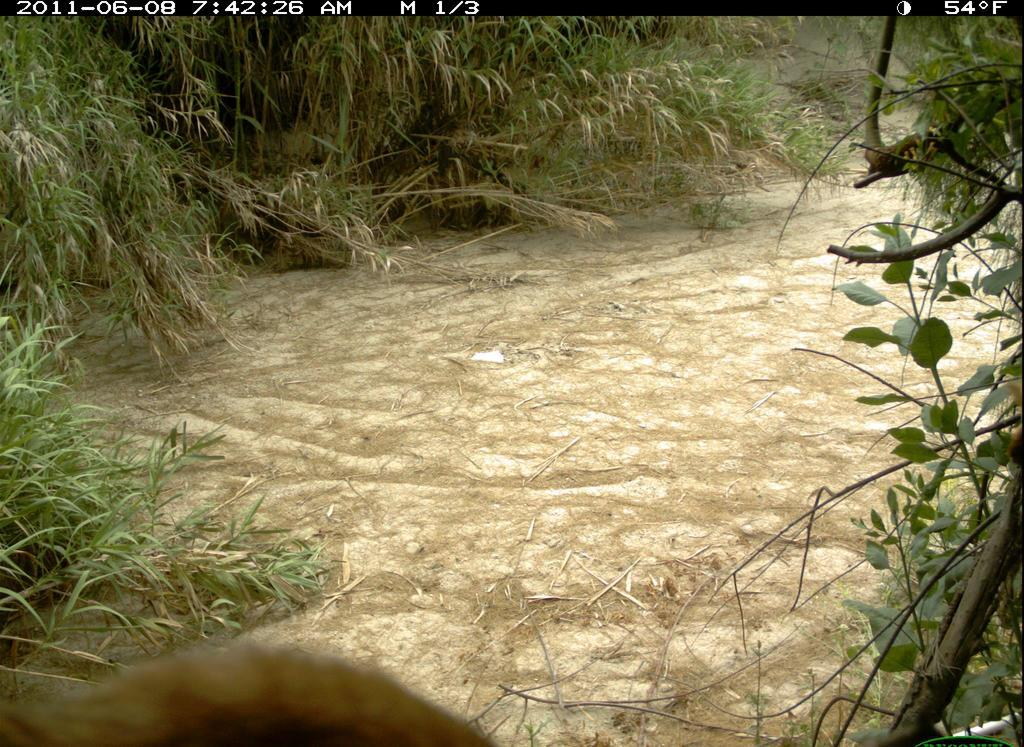bobcat: (6, 635, 513, 747)
